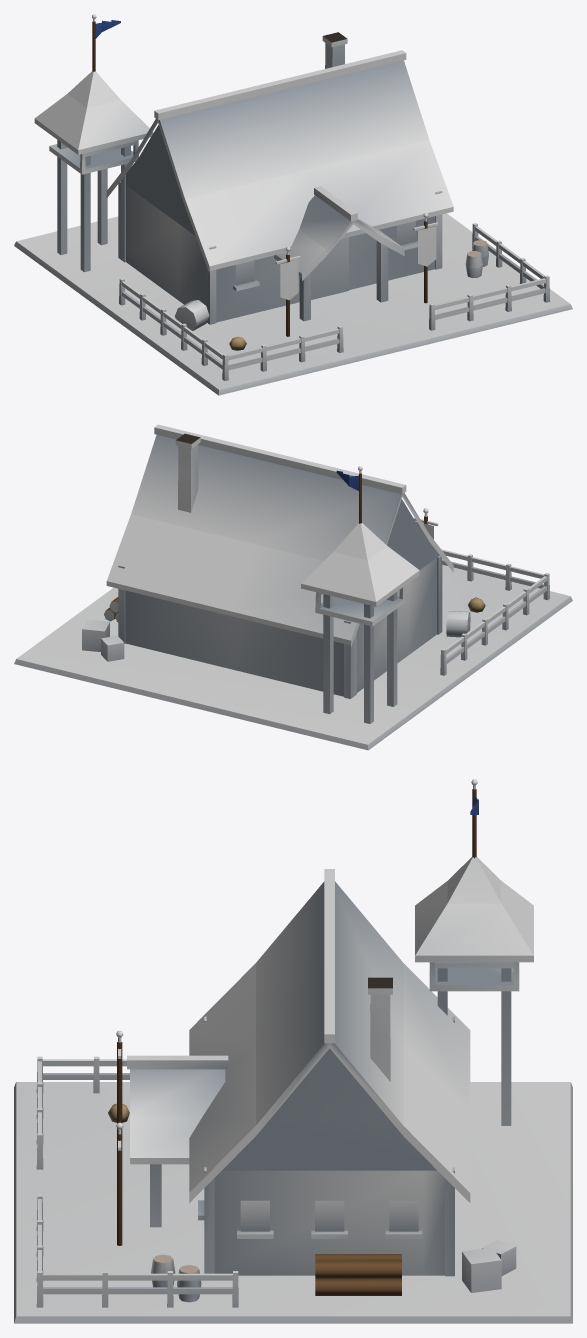
File: city_hall_t1.glb
3 views of the same model, one above another, from view 1: azimuth 30°, elevation 25°; view 2: azimuth 150°, elevation 25°; view 3: azimuth 270°, elevation 25° (orthographic). The views are drawn at different scales.
Visible parts, largest first — view 1: city_hall_t1; view 2: city_hall_t1; view 3: city_hall_t1.
Part boxes in pixels (x1=…): city_hall_t1: x1=14, y1=14, x2=572, y2=395; city_hall_t1: x1=14, y1=424, x2=572, y2=750; city_hall_t1: x1=14, y1=779, x2=572, y2=1323.
Bounding box in the file's own units: 3.86 × 2.57 × 3.86.
